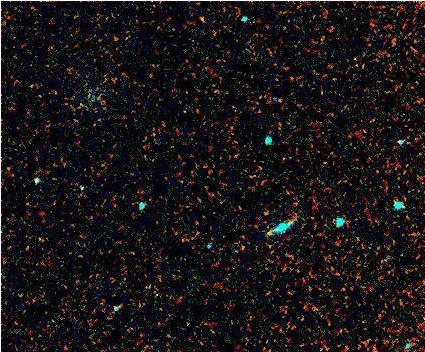star: (260, 216, 290, 246)
